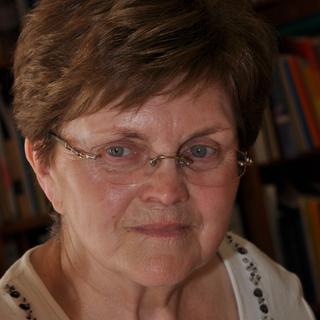eye: (97, 141, 142, 164), (178, 142, 221, 166)
